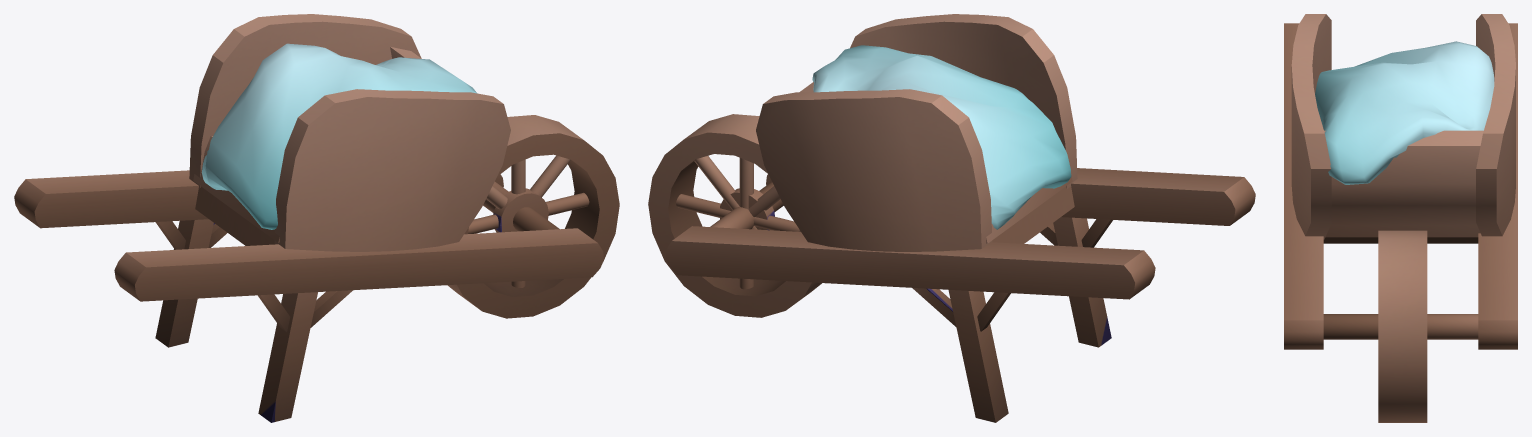
File: CarretillaNieve_V2.fbx
3 views of the same model, side by side, from view 1: azimuth 30°, elevation 25°; view 2: azimuth 150°, elevation 25°; view 3: azimuth 270°, elevation 25° (orthographic). The views are drawn at different scales.
Visible parts, largest first — view 1: Caja_lados, Barra, Nieve, Rueda.001, Barra1, Pata, Pata1, Caja_piso, Centro_rueda, Palo_rueda3, Caja_atras, Rueda_eje (+4 smaller); view 2: Caja_lados, Barra1, Nieve, Rueda.001, Barra, Pata1, Pata, Caja_piso, Palo_rueda3, Caja_atras, Palo_rueda2, Rueda_eje (+3 smaller); view 3: Nieve, Caja_lados, Caja_frente, Rueda.001, Barra, Barra1, Rueda_eje, Caja_piso.
Part boxes in pixels (box(x1,y1,x2,y2)): Caja_lados: box(189, 14, 510, 251); Barra: box(114, 228, 603, 301); Nieve: box(201, 43, 477, 229); Rueda.001: box(447, 115, 619, 318); Barra1: box(14, 170, 503, 228); Pata: box(258, 292, 317, 422); Pata1: box(155, 219, 213, 347); Caja_piso: box(195, 186, 274, 245); Centro_rueda: box(493, 188, 548, 232); Palo_rueda3: box(468, 192, 589, 233); Caja_atras: box(193, 136, 279, 242); Rueda_eje: box(483, 181, 559, 231); Caja_lados: box(756, 14, 1077, 251); Barra1: box(665, 226, 1155, 299); Nieve: box(812, 45, 1071, 229); Rueda.001: box(648, 114, 821, 317); Barra: box(766, 168, 1255, 225); Pata1: box(948, 289, 1008, 422); Pata: box(1053, 217, 1111, 347); Caja_piso: box(992, 186, 1074, 243); Palo_rueda3: box(676, 194, 799, 231); Caja_atras: box(986, 175, 1072, 243); Palo_rueda2: box(694, 156, 757, 229); Rueda_eje: box(710, 182, 783, 229); Nieve: box(1315, 41, 1494, 184); Caja_lados: box(1291, 14, 1515, 239); Caja_frente: box(1324, 130, 1483, 237); Rueda.001: box(1378, 230, 1427, 422); Barra: box(1284, 23, 1323, 349); Barra1: box(1478, 23, 1517, 349); Rueda_eje: box(1323, 314, 1478, 339); Caja_piso: box(1323, 237, 1478, 243).
Bounding box in the file's own units: 3.82 × 2.06 × 1.5.
